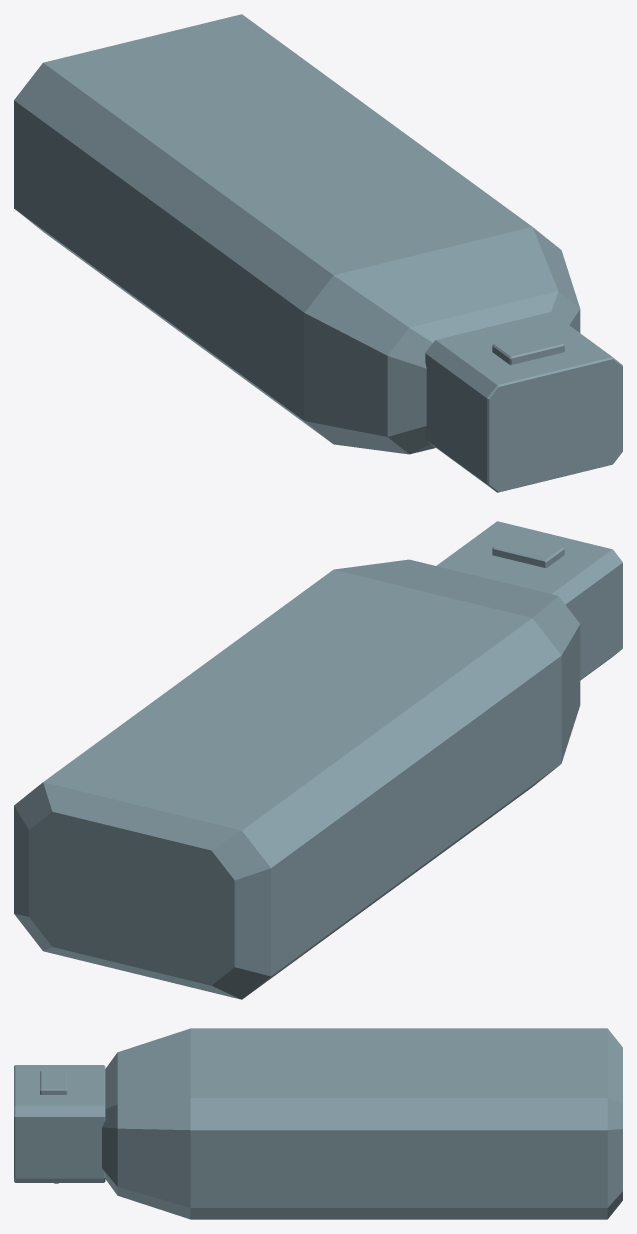
The model's file is shower_gel.glb.
3 renders of one model, top to bottom at view 1: azimuth 30°, elevation 25°; view 2: azimuth 150°, elevation 25°; view 3: azimuth 270°, elevation 25°, orthographic. The views are drawn at different scales.
Parts seen in each view (by area): view 1: shower_gel; view 2: shower_gel; view 3: shower_gel.
Part boxes in pixels (bbox=[...]): shower_gel: bbox=[14, 14, 622, 492]; shower_gel: bbox=[14, 521, 622, 999]; shower_gel: bbox=[14, 1028, 622, 1219].
Bounding box in the file's own units: 0.07 × 0.0454 × 0.2.
